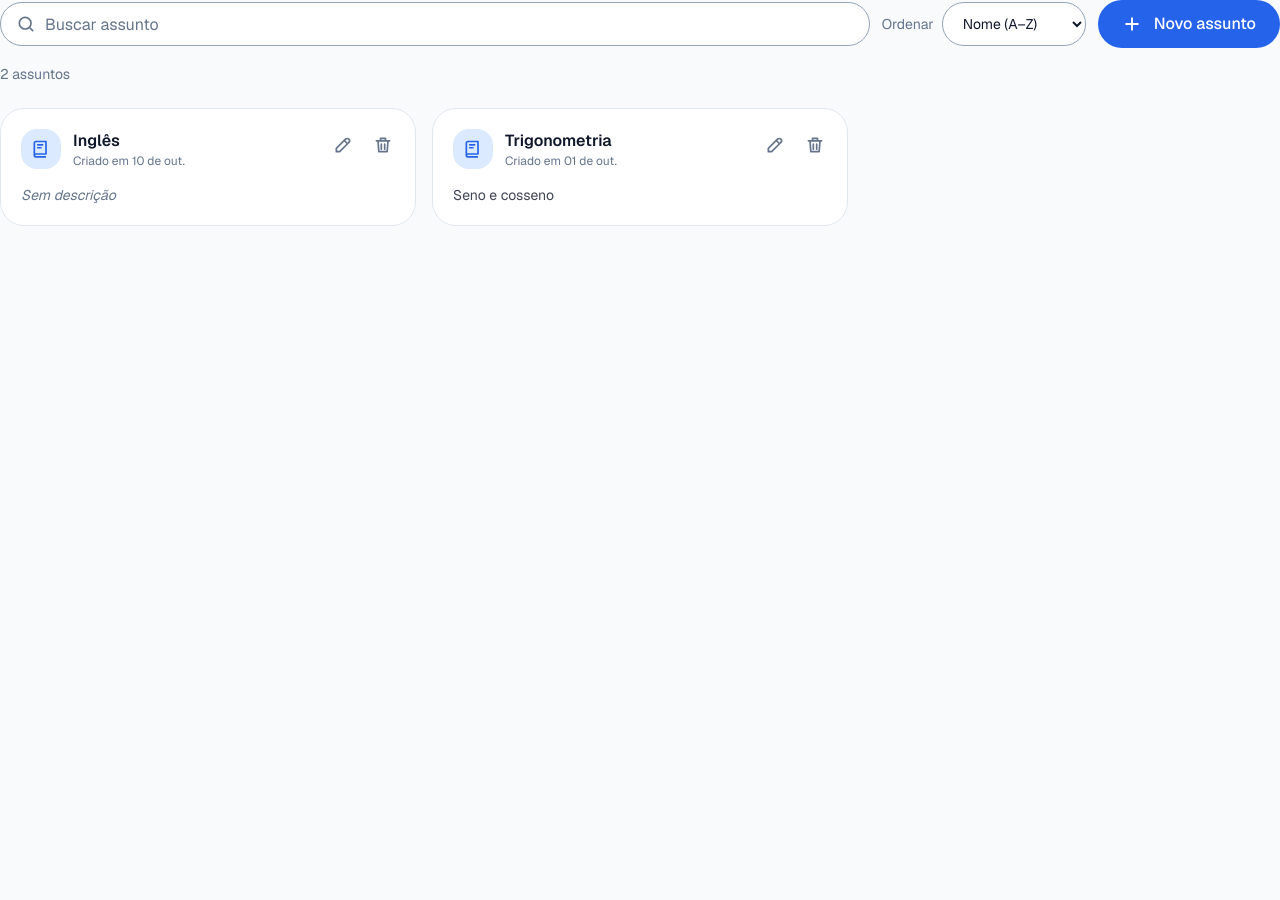
it: SubjectBoard › searches and offers to create what was not found
Type "cosseno" into the search field labelled "Buscar assunto".
click(435, 24); type("cosseno")  # box [0,2,870,46]
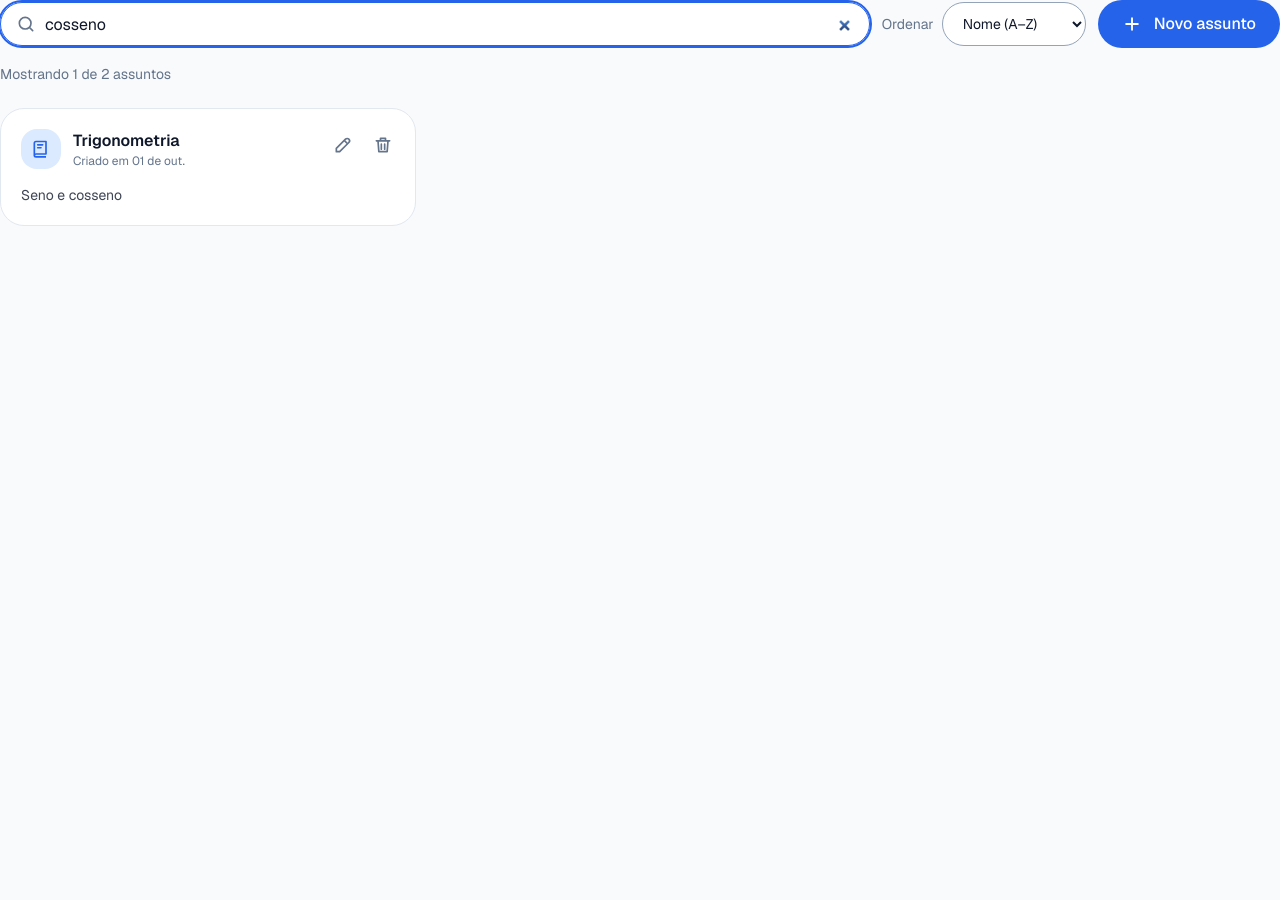
Expected: the heading "Trigonometria" is shown, [73,130,180,151]
Result: the heading "Inglês" is gone
Replace the text in the search field named "Buscar assunto" with "Química" at (435, 24), box [0,2,870,46]
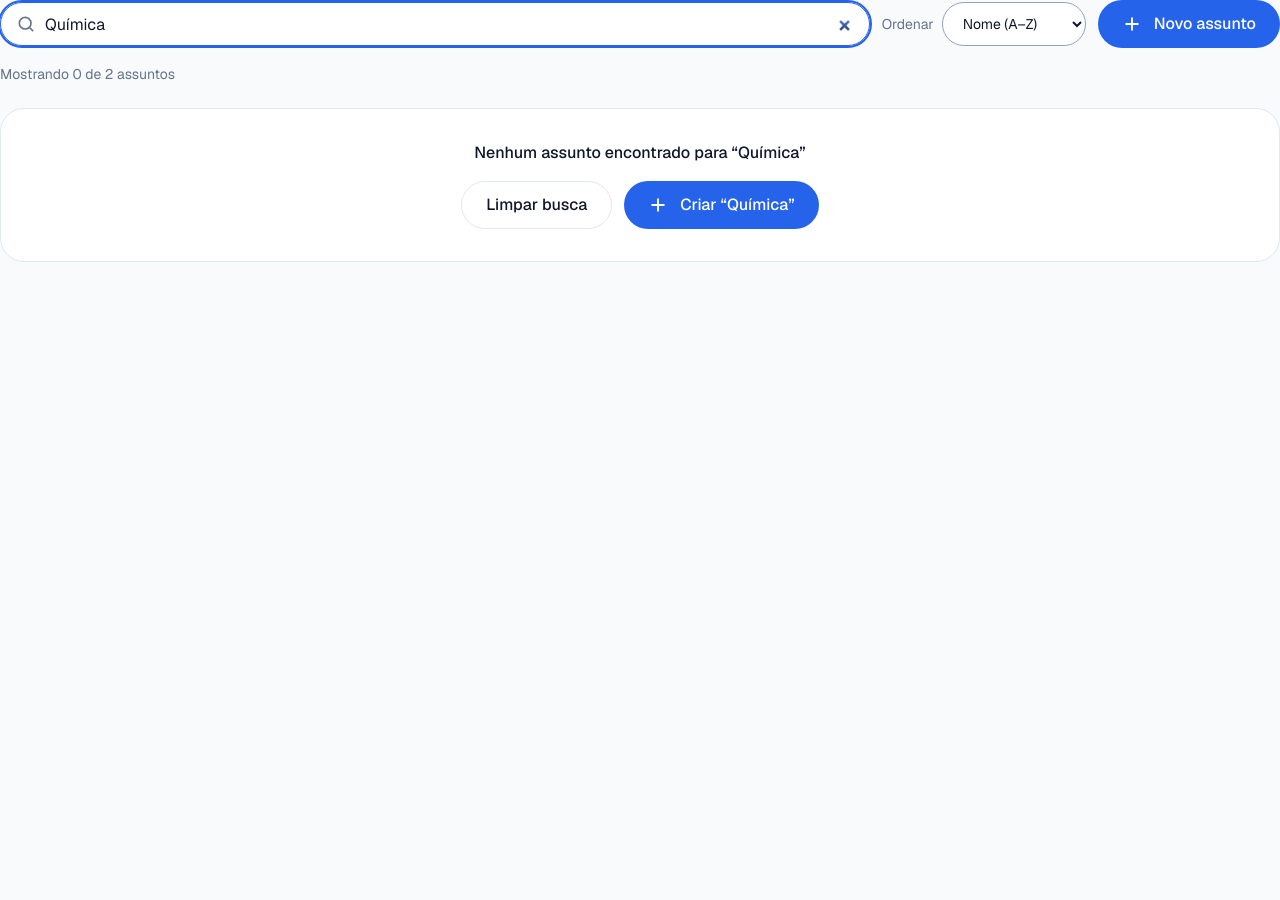
Click the button "Criar “Química”".
click(722, 205)  # box [624,181,819,229]
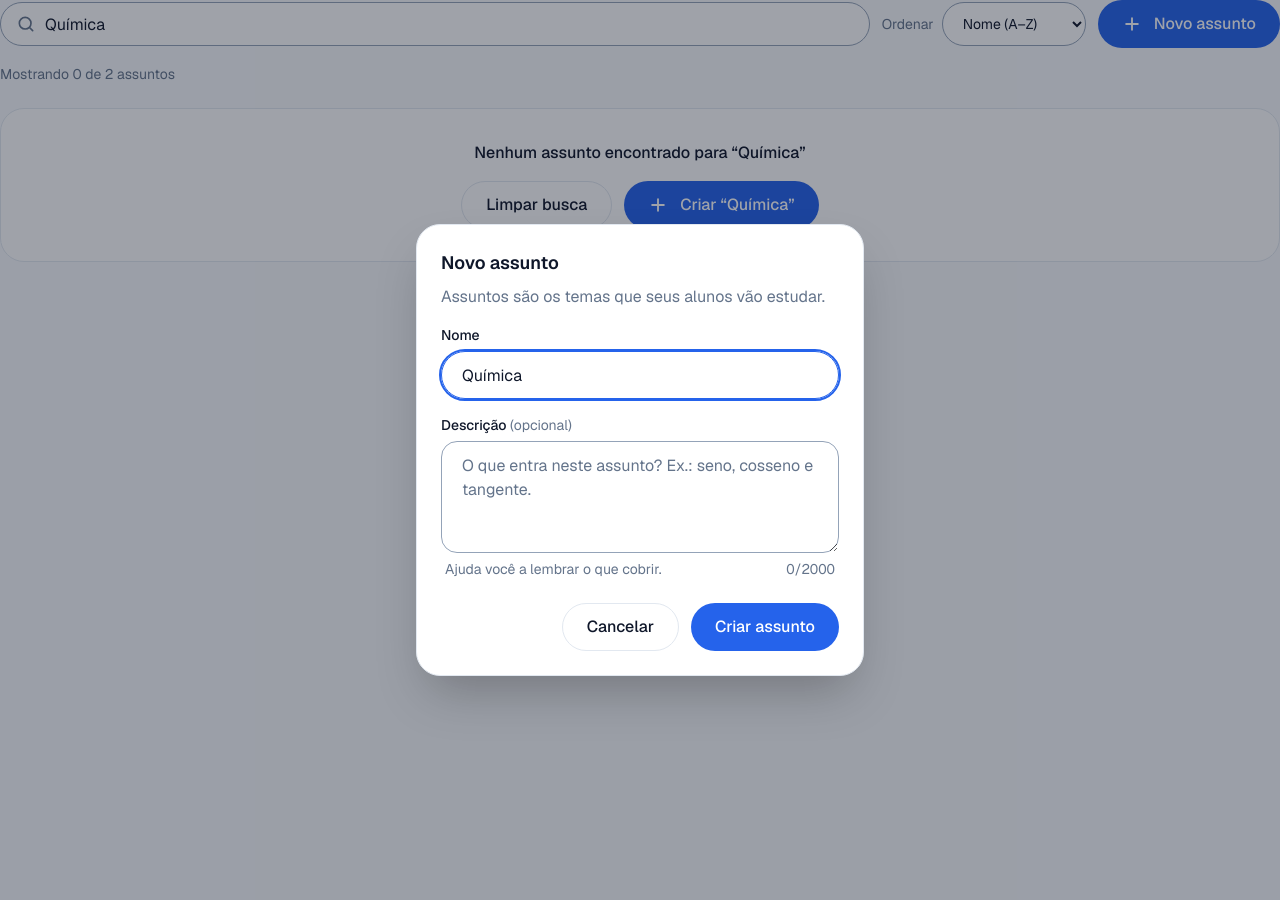
Result: the field labelled "Nome" holds "Química" at [441,351,839,399]
